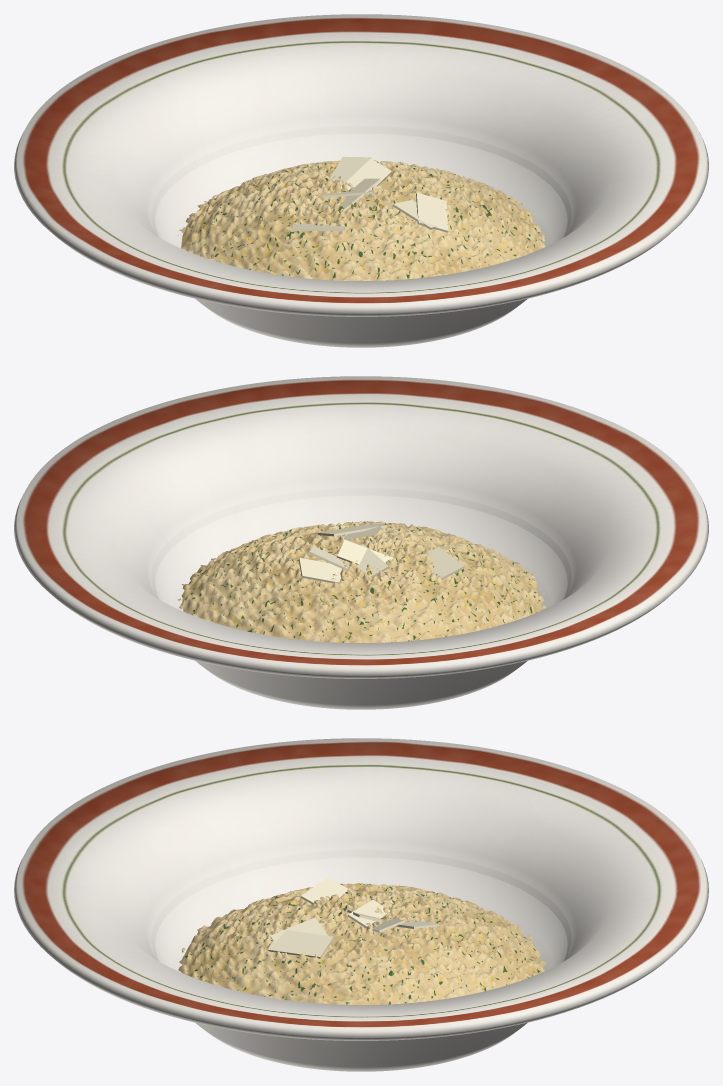
File: risotto-al-parmigiano.glb
3 renders of one model, top to bottom at view 1: azimuth 30°, elevation 25°; view 2: azimuth 150°, elevation 25°; view 3: azimuth 270°, elevation 25°, orthographic.
Visible parts, largest first — view 1: Prato fundo, Risotto, Lasca3, Lasca6, Lasca1; view 2: Prato fundo, Risotto, Lasca1, Lasca5, Lasca4; view 3: Prato fundo, Risotto, Lasca3, Lasca5, Lasca0.
Part boxes in pixels (x1,y1,x2,y2): Prato fundo: (14, 14, 708, 347); Risotto: (177, 160, 545, 280); Lasca3: (416, 192, 448, 232); Lasca6: (340, 158, 391, 189); Lasca1: (329, 156, 371, 184); Prato fundo: (14, 376, 708, 709); Risotto: (177, 521, 546, 642); Lasca1: (298, 557, 341, 583); Lasca5: (424, 546, 464, 580); Lasca4: (337, 539, 397, 564); Prato fundo: (14, 738, 708, 1071); Risotto: (178, 883, 546, 1004); Lasca3: (267, 929, 333, 958); Lasca5: (300, 877, 349, 904); Lasca0: (347, 900, 390, 928).
Size of the model in its own units: 0.28 by 0.051 by 0.28.
3 materials, 2 textured.
